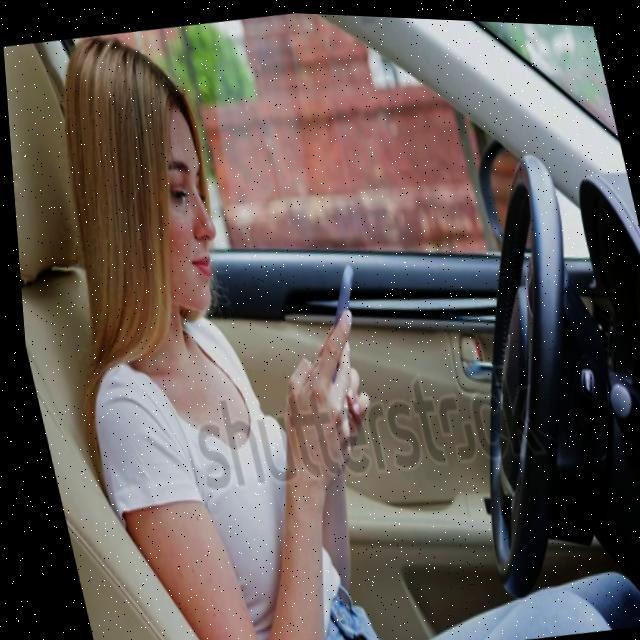PhoneCall: (297, 257, 373, 385)
